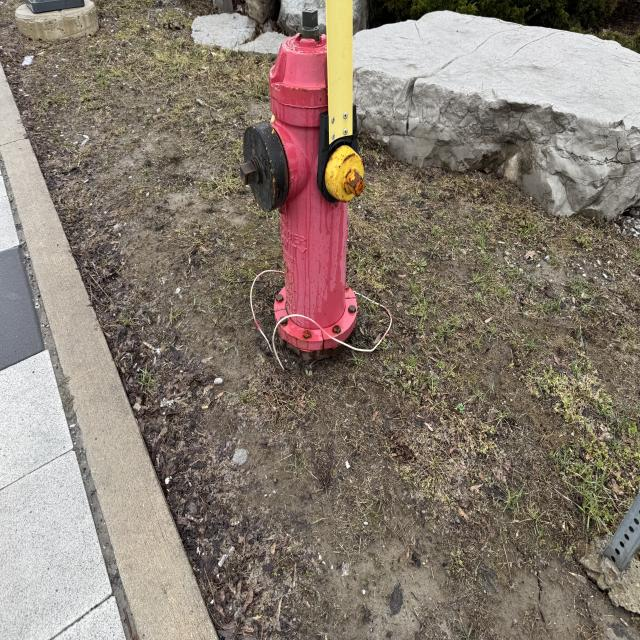Fire hydrant: (237, 9, 366, 354)
